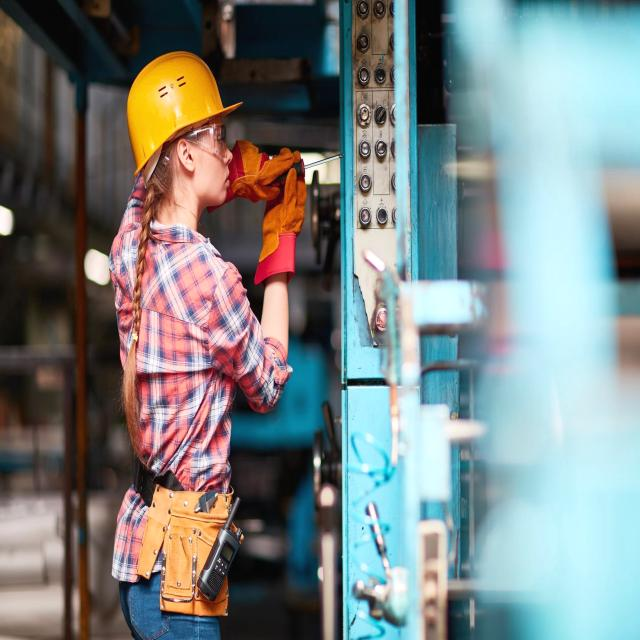face_nomask: (185, 118, 235, 218)
glasses: (192, 116, 232, 166)
hand_glove: (256, 186, 327, 296), (230, 128, 308, 197)
head_helmet: (98, 57, 254, 174)
person: (96, 39, 274, 607)
